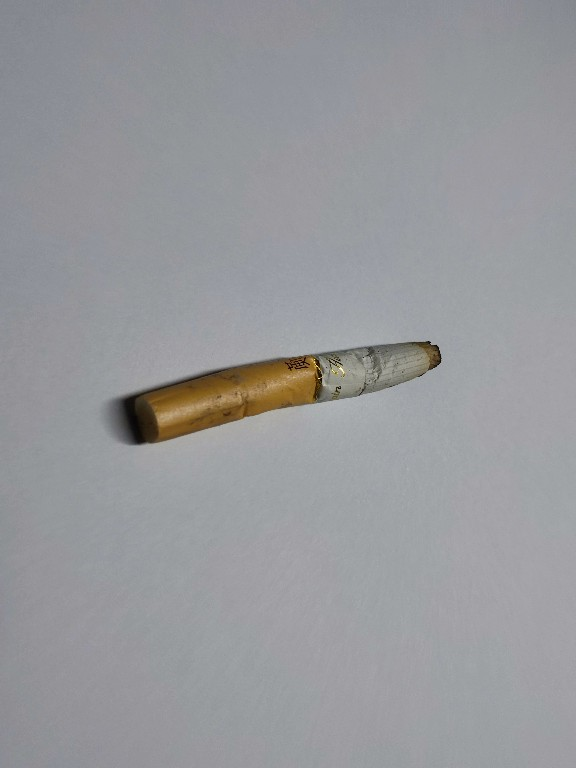cigarette: (128, 335, 446, 449)
